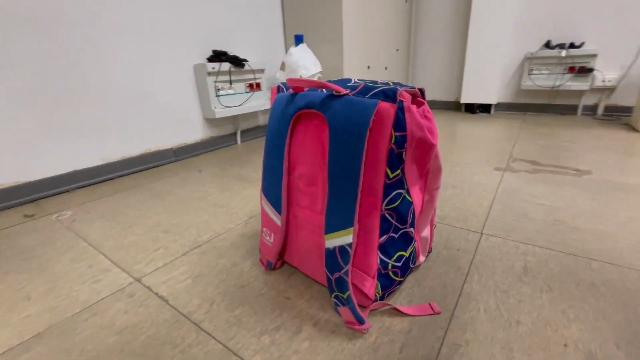Backpack: (251, 71, 449, 338)
